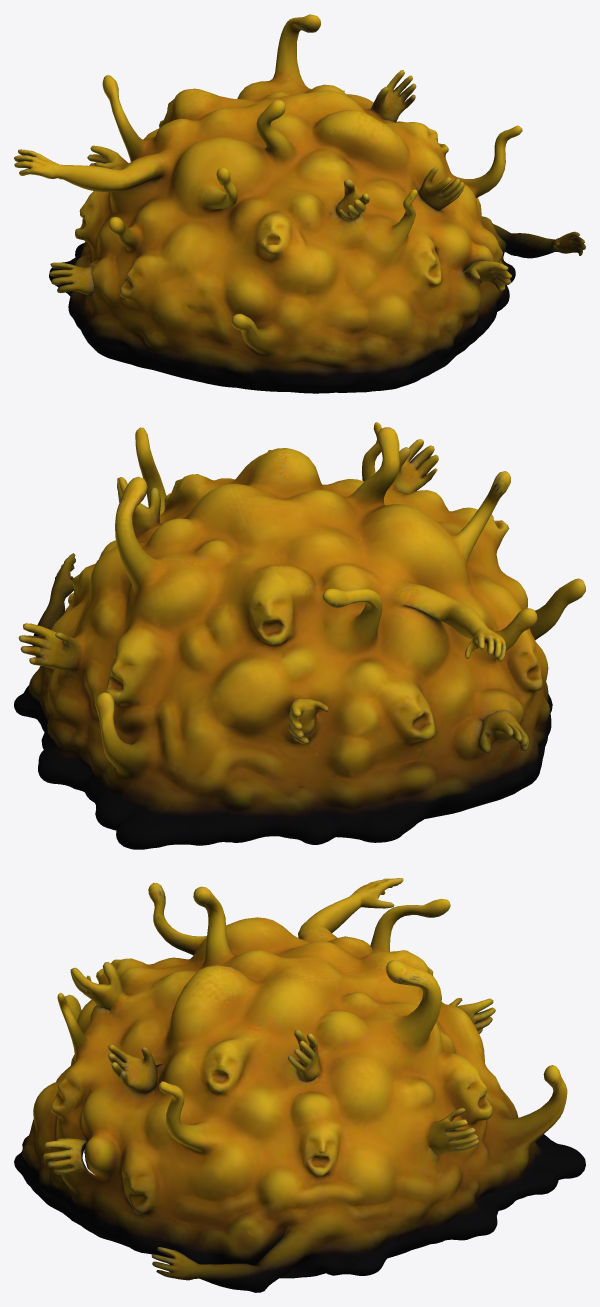
Rendered from MZ4250 - Adult Oblex.glb.
The picture shows the model from 3 angles, top to bottom: view 1: azimuth 30°, elevation 25°; view 2: azimuth 150°, elevation 25°; view 3: azimuth 270°, elevation 25°; orthographic projection. The views are drawn at different scales.
Parts seen in each view (by area): view 1: ORGANIC BASE SPHERE.001; view 2: ORGANIC BASE SPHERE.001; view 3: ORGANIC BASE SPHERE.001.
Part boxes in pixels (box(x1,y1,x2,y2)): ORGANIC BASE SPHERE.001: box(14, 14, 585, 393); ORGANIC BASE SPHERE.001: box(14, 422, 585, 849); ORGANIC BASE SPHERE.001: box(14, 878, 585, 1292).
Bounding box in the file's own units: 0.8216 × 0.4031 × 0.7853.
Materials: 1 (1 with a texture image).
